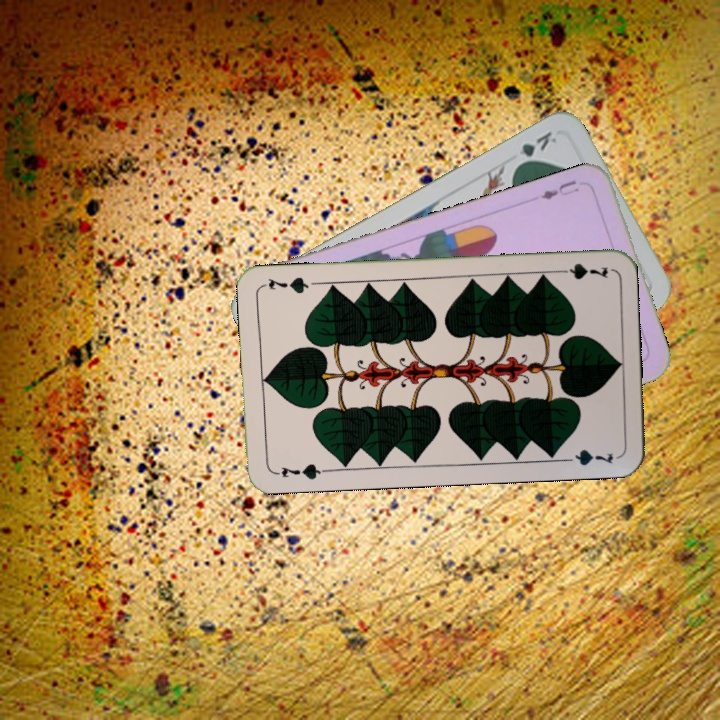EU: (536, 176, 582, 203)
G7: (551, 259, 611, 282), (270, 460, 329, 482)
GK: (510, 127, 560, 171)
